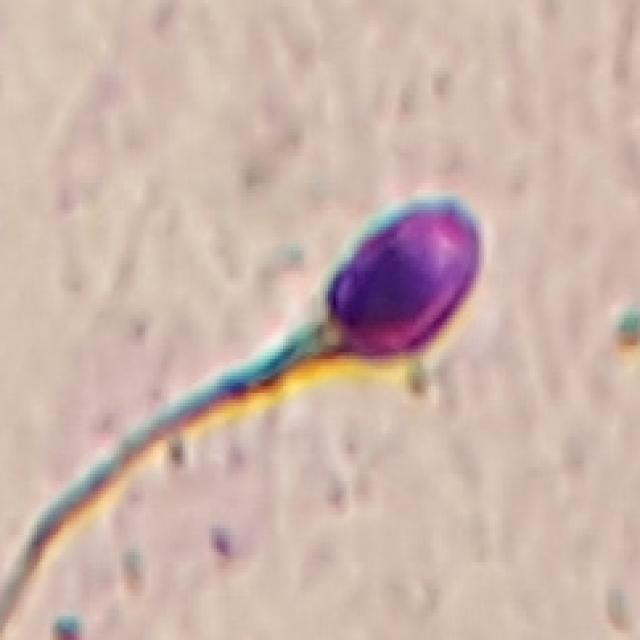normal sperm: (235, 195, 486, 399)
